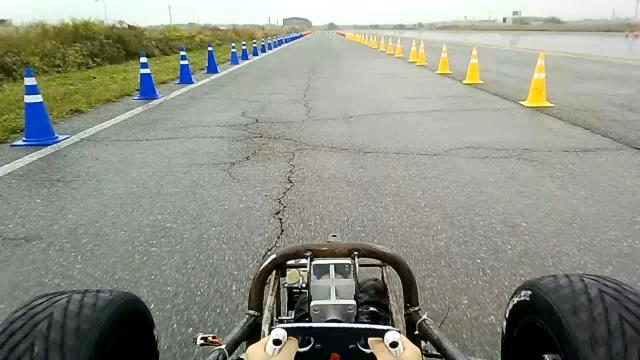blue cone: (9, 67, 70, 146), (132, 52, 163, 100), (173, 46, 196, 84), (204, 42, 220, 74), (228, 41, 240, 65), (240, 39, 250, 60), (252, 38, 260, 56), (260, 36, 267, 54), (266, 38, 272, 51)
yellow cone: (518, 52, 555, 108), (460, 41, 490, 87), (435, 42, 452, 74), (415, 40, 428, 66), (407, 38, 418, 62), (394, 36, 403, 58), (386, 36, 394, 55), (378, 35, 386, 52), (370, 34, 378, 48)
